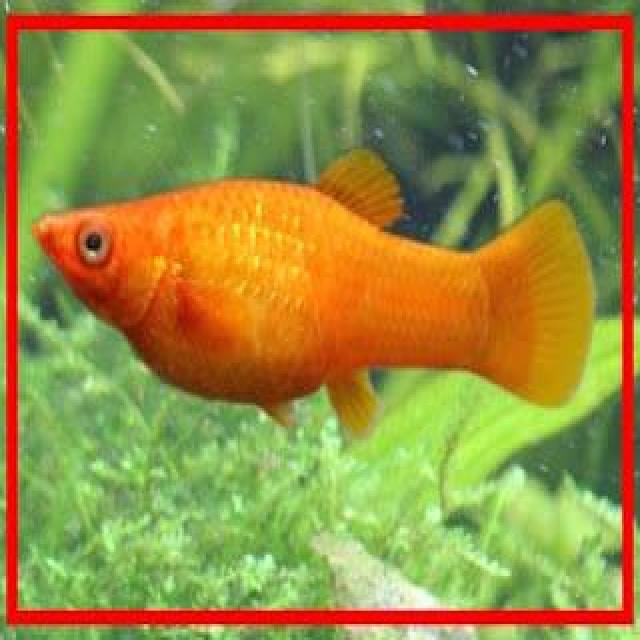PlatyFish: (24, 143, 604, 452)
